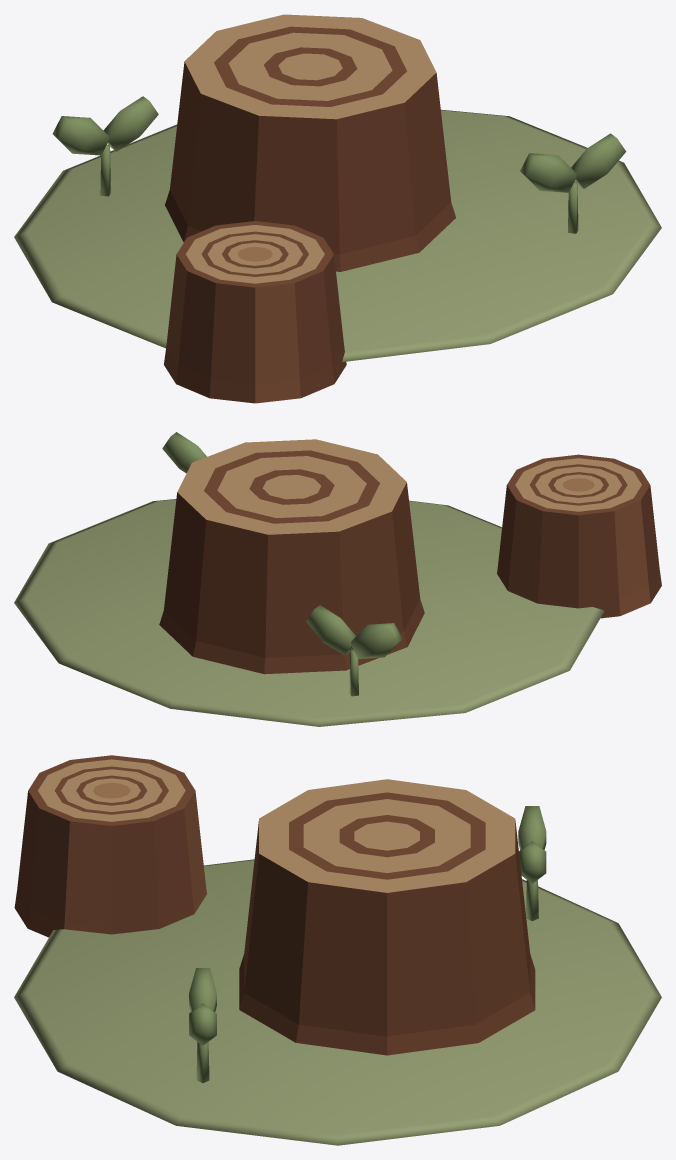
Rendered from hardwood_grove_gathered.glb.
3 views of the same model, one above another, from view 1: azimuth 30°, elevation 25°; view 2: azimuth 150°, elevation 25°; view 3: azimuth 270°, elevation 25° (orthographic). The views are drawn at different scales.
Visible parts, largest first — view 1: hardwood_grove_gathered; view 2: hardwood_grove_gathered; view 3: hardwood_grove_gathered.
Boxes of the visible parts, x1=… form: hardwood_grove_gathered: x1=14, y1=14, x2=661, y2=403; hardwood_grove_gathered: x1=14, y1=432, x2=661, y2=726; hardwood_grove_gathered: x1=14, y1=755, x2=661, y2=1145.
Bounding box in the file's own units: 1.3 × 0.343 × 1.2.
